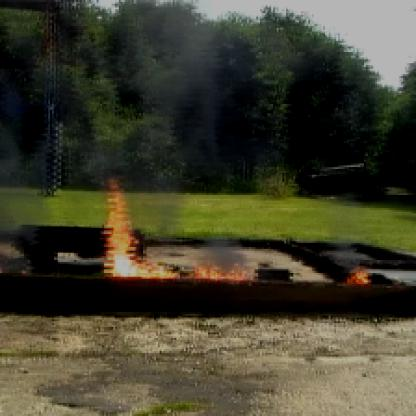Fire: (98, 178, 178, 280), (187, 260, 262, 288), (340, 265, 377, 288)
